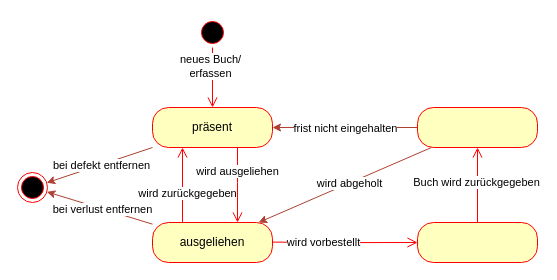
The diagram is 557 pixels wide and 280 high, and some of its shapes have lost their labels. The centre of each missing label's shape, as x and y in pixels:
"abholbereit" goes at pixel 477 127.
"vorbestellt" goes at pixel 477 242.
